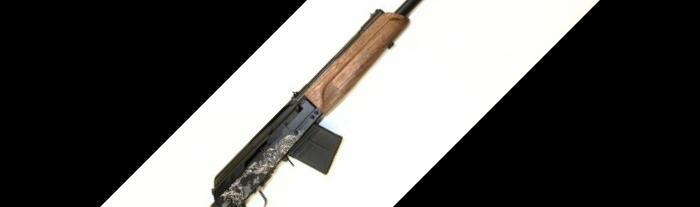larga: (209, 0, 424, 207)
